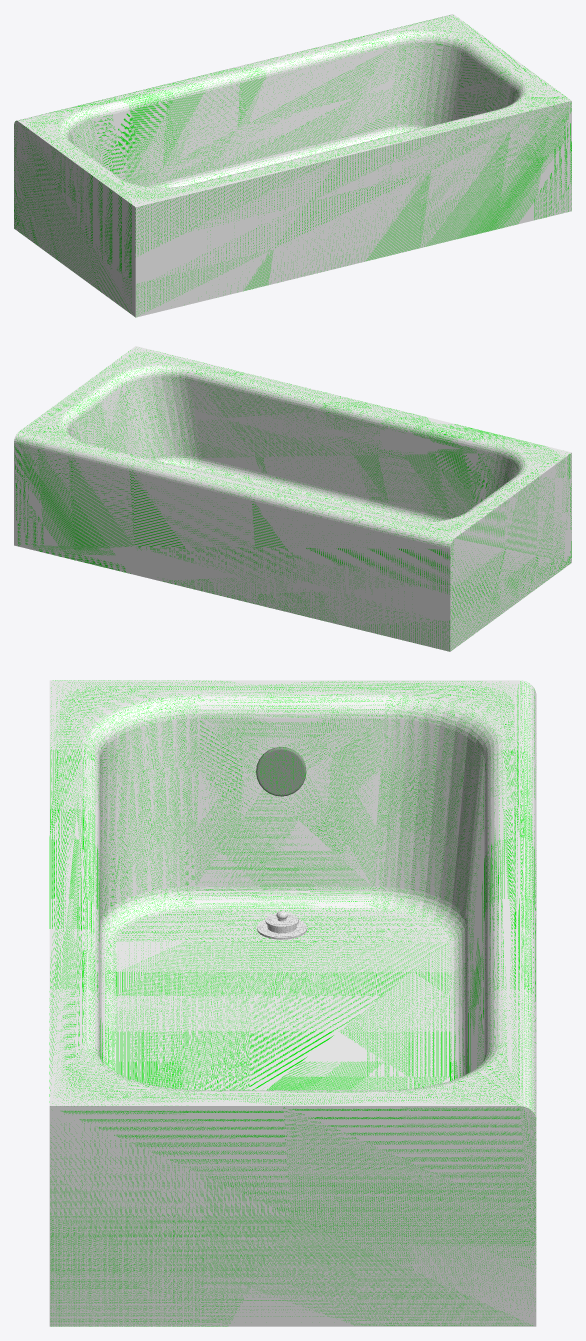
The model's file is bathtub-no-texture.dae.
The picture shows the model from 3 angles, top to bottom: view 1: azimuth 30°, elevation 25°; view 2: azimuth 150°, elevation 25°; view 3: azimuth 270°, elevation 25°; orthographic projection. The views are drawn at different scales.
Visible parts, largest first — view 1: skpeBwDpp (×2); view 2: skpeBwDpp (×2); view 3: skpeBwDpp (×3).
Boxes of the visible parts, bbox=[...] form: skpeBwDpp (×2): bbox=[14, 14, 571, 317]; skpeBwDpp (×2): bbox=[14, 346, 571, 651]; skpeBwDpp (×3): bbox=[49, 680, 536, 1326].
Bounding box in the file's own units: 60 × 29 × 14.5.
